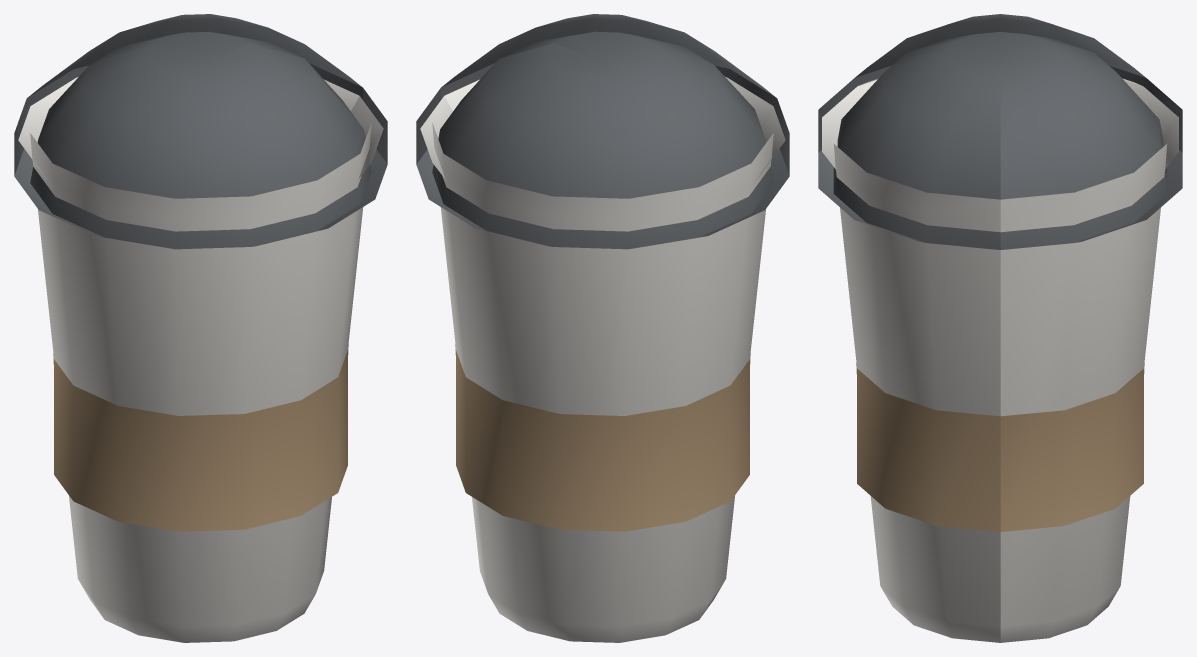
Rendered from bakery-and-cafe-takeaway-cup-78c48502__22227.glb.
3 renders of one model, left to right at view 1: azimuth 30°, elevation 25°; view 2: azimuth 150°, elevation 25°; view 3: azimuth 270°, elevation 25°, orthographic.
Parts seen in each view (by area): view 1: takeaway-cup; view 2: takeaway-cup; view 3: takeaway-cup.
Boxes of the visible parts, x1,y1,x2,y2 form: takeaway-cup: (14,14,387,642); takeaway-cup: (416,14,789,642); takeaway-cup: (818,14,1182,642).
Size of the model in its own units: 0.094 by 0.154 by 0.0916.
